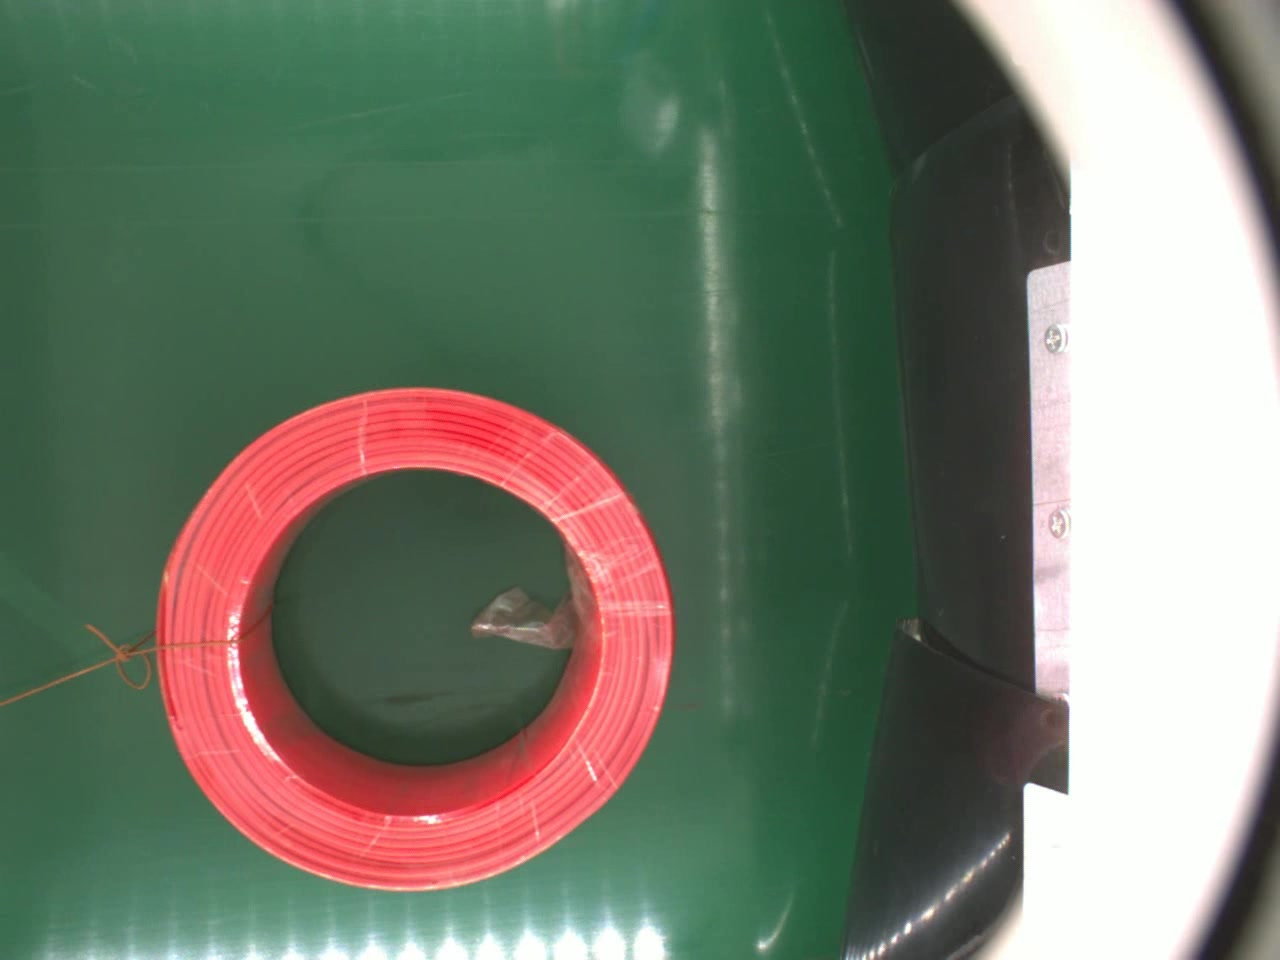red: (149, 381, 680, 898)
